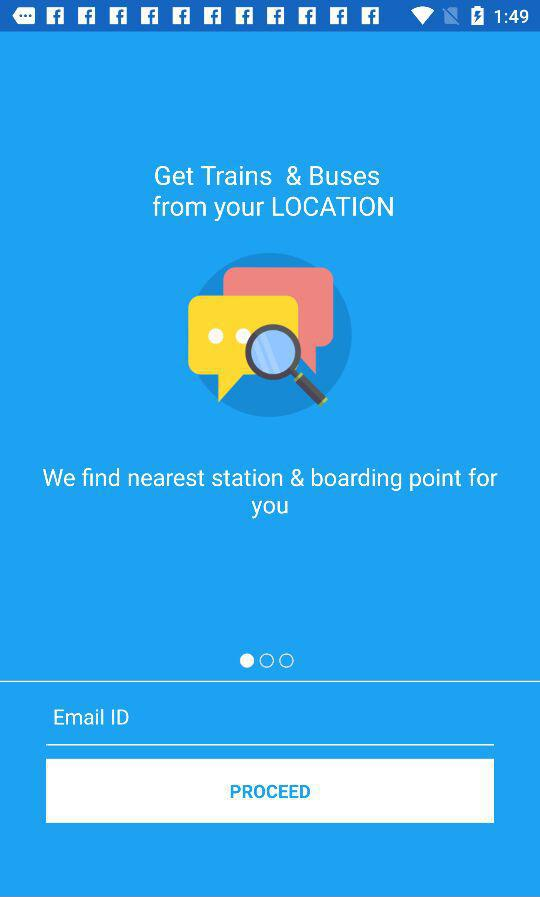EditText: (46, 708, 495, 747)
Image: (185, 251, 353, 418)
PageIndicator: (239, 652, 296, 670)
Text: (42, 466, 498, 521), (153, 165, 395, 223), (55, 708, 130, 726)
TextButton: (46, 758, 495, 824)
UpperTaskBar: (1, 1, 540, 33)
